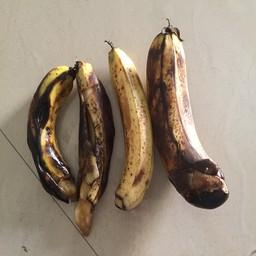Bad_banana: (146, 18, 231, 223), (28, 61, 80, 206), (72, 57, 106, 240)
